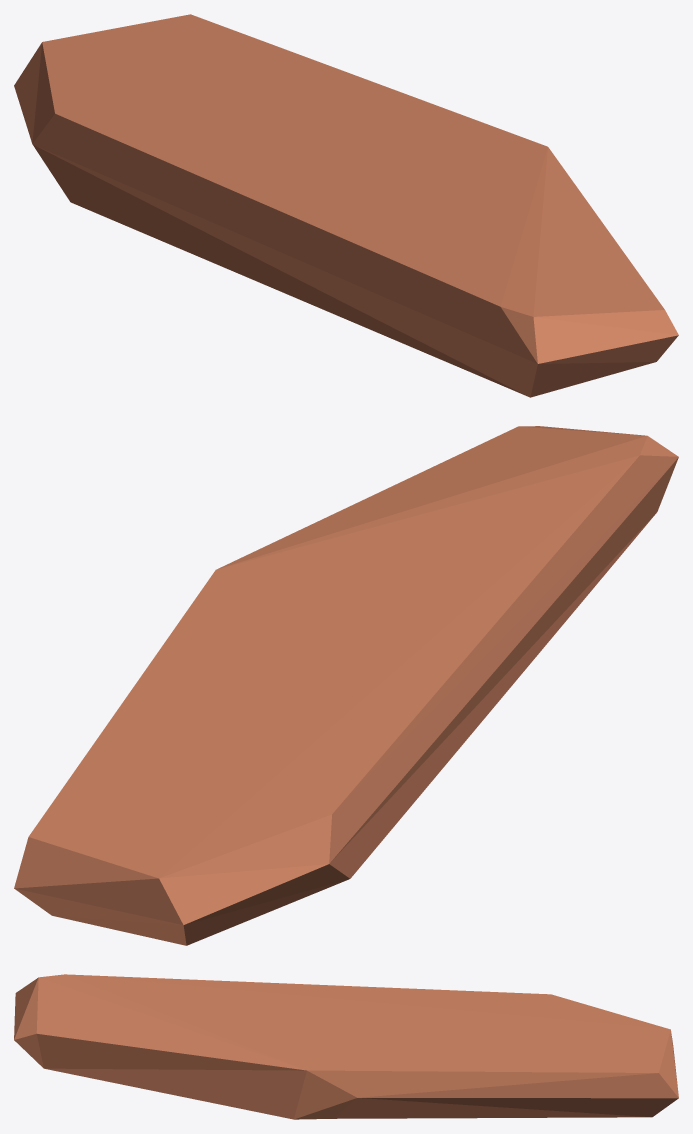
File: west_rock06.FBX
3 renders of one model, top to bottom at view 1: azimuth 30°, elevation 25°; view 2: azimuth 150°, elevation 25°; view 3: azimuth 270°, elevation 25°, orthographic. The views are drawn at different scales.
Parts seen in each view (by area): view 1: west_rock06; view 2: west_rock06; view 3: west_rock06.
Boxes of the visible parts, bbox=[...] form: west_rock06: bbox=[14, 14, 678, 397]; west_rock06: bbox=[14, 426, 678, 945]; west_rock06: bbox=[14, 974, 678, 1119].
Size of the model in its own units: 1788 by 866 by 5063.
